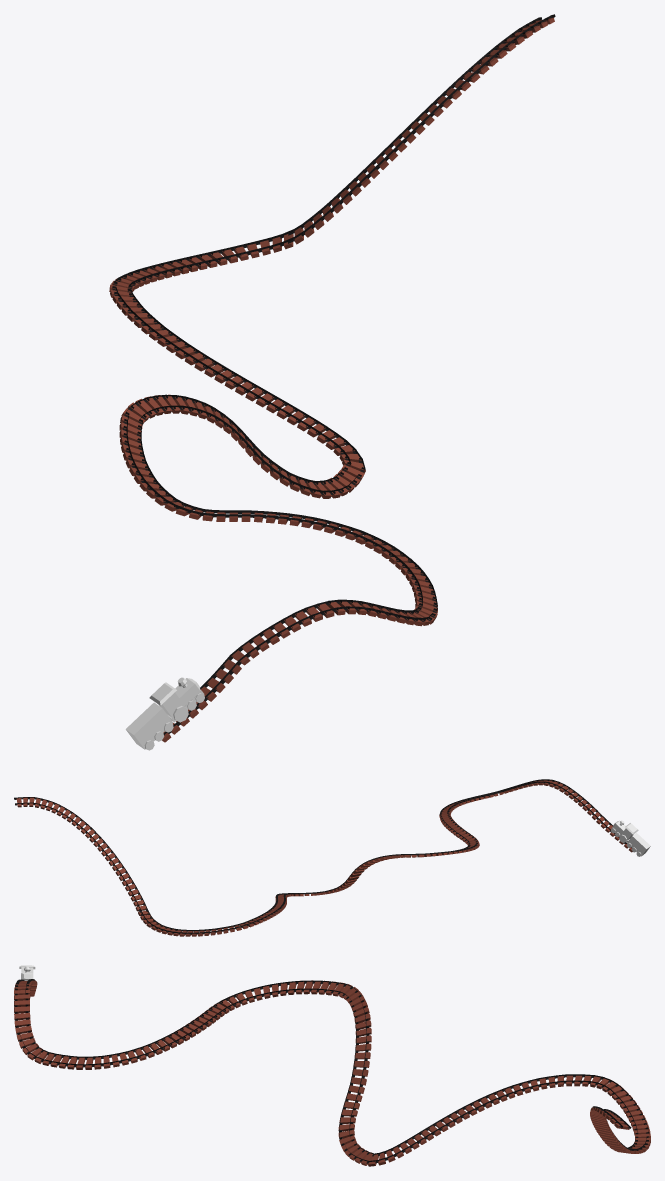
The model's file is Blocagem_MiniGame_GetItRock_trenzinho.fbx.
3 renders of one model, top to bottom at view 1: azimuth 30°, elevation 25°; view 2: azimuth 150°, elevation 25°; view 3: azimuth 270°, elevation 25°, orthographic. The views are drawn at different scales.
Visible parts, largest first — view 1: Trilo_Trem, Trenzinho_Animado; view 2: Trilo_Trem, Trenzinho_Animado; view 3: Trilo_Trem.
Boxes of the visible parts, x1,y1,x2,y2 form: Trilo_Trem: (109,14,555,742); Trenzinho_Animado: (125,677,204,750); Trilo_Trem: (14,779,632,936); Trenzinho_Animado: (611,820,650,856); Trilo_Trem: (14,979,650,1166).
Size of the model in its own units: 11453 by 3133 by 10591.
